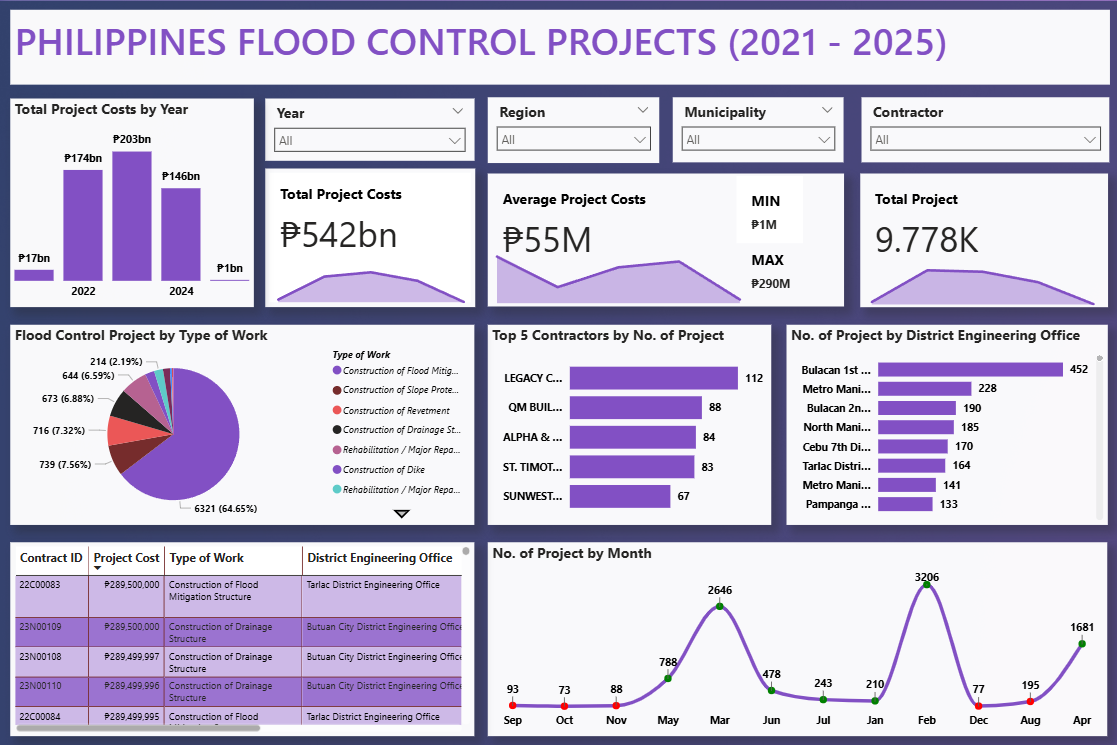

This screenshot's page, from the dashboard's own definition file:
{"tool":"powerbi","page":{"name":"Page 2","canvas":[1280,850],"ordinal":0},"visuals":[{"type":"group","id":"g1","title":"Group 1","box":[304,190.7,242.5,158.9],"z":0},{"type":"cardVisual","fields":{"Data":["Sum(ProjectsFloodControl.ContractCost)"]},"box":[304,190.7,240.3,158.5],"z":0,"group":"g1"},{"type":"cardVisual","fields":{"Data":["CountNonNull(ProjectsFloodControl.ContractCost)"]},"box":[984.3,196.7,283.3,153.1],"z":0,"group":"g3"},{"type":"group","id":"g2","title":"Group 2","box":[554.2,196.7,411.7,153.6],"z":1000},{"type":"lineChart","fields":{"Y":["Sum(ProjectsFloodControl.ContractCost)"],"Category":["Date.Year"]},"box":[304.3,279.2,242.2,70.4],"z":1000,"group":"g1"},{"type":"lineChart","fields":{"Y":["CountNonNull(ProjectsFloodControl.ContractCost)"],"Category":["Date.Year"]},"box":[983.3,288.9,283.2,63],"z":1000,"group":"g3"},{"type":"cardVisual","fields":{"Data":["Avg(ProjectsFloodControl.ContractCost)"]},"box":[558.8,196.7,407.1,152.4],"z":2000,"group":"g2"},{"type":"clusteredBarChart","title":"Top 5 Contractors by No. of Project","fields":{"Y":["CountNonNull(ProjectsFloodControl.ContractID)"],"Category":["ProjectsFloodControl.Contractor"]},"box":[559,369.9,323.9,228.9],"z":2000},{"type":"group","id":"g3","title":"Group 3","box":[983.3,196.7,283.3,155],"z":3000},{"type":"lineChart","fields":{"Y":["Avg(ProjectsFloodControl.ContractCost)"],"Category":["Date.Year"]},"box":[554.2,265.5,307.6,84.8],"z":3000,"group":"g2"},{"type":"slicer","title":"  Year","fields":{"Values":["Date.Year"]},"box":[304.3,111.3,238.9,70.8],"z":4000},{"type":"cardVisual","fields":{"Data":["Min(ProjectsFloodControl.ContractCost)"]},"box":[842.1,200,75.7,76.4],"z":4000,"group":"g2"},{"type":"slicer","fields":{"Values":["ProjectsFloodControl.Region"]},"box":[558.5,110.1,196.2,75],"z":5000},{"type":"cardVisual","fields":{"Data":["Max(ProjectsFloodControl.ContractCost)"]},"box":[842.1,266.7,82.9,68.1],"z":5000,"group":"g2"},{"type":"slicer","fields":{"Values":["ProjectsFloodControl.Contractor"]},"box":[985.3,110.2,283.3,74.5],"z":6000},{"type":"lineChart","title":"No. of Project by Month","fields":{"Category":["Date.MonthName"],"Y":["CountNonNull(ProjectsFloodControl.Project Cost)"]},"box":[559,618.2,708.2,221.7],"z":7000},{"type":"columnChart","title":"Total Project Costs by Year","fields":{"Y":["Sum(ProjectsFloodControl.ContractCost)"],"Category":["Date.Year"]},"box":[12.9,111.4,278.6,238.6],"z":8000},{"type":"slicer","fields":{"Values":["ProjectsFloodControl.Municipality"]},"box":[770,110,195.6,74.4],"z":9000},{"type":"tableEx","fields":{"Values":["ProjectsFloodControl.ContractID","ProjectsFloodControl.Project Cost","ProjectsFloodControl.TypeofWork","ProjectsFloodControl.DistrictEngineeringOffice","ProjectsFloodControl.Contractor","ProjectsFloodControl.Region"]},"box":[13.3,618.2,530.4,221.7],"z":10000},{"type":"clusteredBarChart","title":"No. of Project by District Engineering Office","fields":{"Y":["CountNonNull(ProjectsFloodControl.Project Cost)"],"Category":["ProjectsFloodControl.DistrictEngineeringOffice"]},"box":[900,370,367.1,228.6],"z":11000},{"type":"pieChart","title":"Flood Control Project by Type of Work","fields":{"Y":["CountNonNull(ProjectsFloodControl.ProjectID)"],"Category":["ProjectsFloodControl.TypeofWork"]},"box":[13.3,369.9,530.4,228.9],"z":12000},{"type":"textbox","box":[12.9,10,1257.1,85.7],"z":13000}]}

Visuals, with their boxes in screenshot pixels (x1, y1, x2, y2), scaled from the page's 1280x850 canvas onto the 1117x745 screenshot:
"Group 1" group: bbox=[265, 167, 477, 306]
cardVisual - Sum(ProjectsFloodControl.ContractCost): bbox=[265, 167, 475, 306]
cardVisual - CountNonNull(ProjectsFloodControl.ContractCost): bbox=[859, 172, 1106, 307]
"Group 2" group: bbox=[484, 172, 843, 307]
lineChart - Sum(ProjectsFloodControl.ContractCost) x Date.Year: bbox=[266, 245, 477, 306]
lineChart - CountNonNull(ProjectsFloodControl.ContractCost) x Date.Year: bbox=[858, 253, 1105, 308]
cardVisual - Avg(ProjectsFloodControl.ContractCost): bbox=[488, 172, 843, 306]
"Top 5 Contractors by No. of Project" clusteredBarChart: bbox=[488, 324, 770, 525]
"Group 3" group: bbox=[858, 172, 1105, 308]
lineChart - Avg(ProjectsFloodControl.ContractCost) x Date.Year: bbox=[484, 233, 752, 307]
"  Year" slicer: bbox=[266, 98, 474, 160]
cardVisual - Min(ProjectsFloodControl.ContractCost): bbox=[735, 175, 801, 242]
slicer - ProjectsFloodControl.Region: bbox=[487, 96, 659, 162]
cardVisual - Max(ProjectsFloodControl.ContractCost): bbox=[735, 234, 807, 293]
slicer - ProjectsFloodControl.Contractor: bbox=[860, 97, 1107, 162]
"No. of Project by Month" lineChart: bbox=[488, 542, 1106, 736]
"Total Project Costs by Year" columnChart: bbox=[11, 98, 254, 307]
slicer - ProjectsFloodControl.Municipality: bbox=[672, 96, 843, 162]
tableEx - ProjectsFloodControl.ContractID x ProjectsFloodControl.Project Cost: bbox=[12, 542, 474, 736]
"No. of Project by District Engineering Office" clusteredBarChart: bbox=[785, 324, 1106, 525]
"Flood Control Project by Type of Work" pieChart: bbox=[12, 324, 474, 525]
textbox: bbox=[11, 9, 1108, 84]
